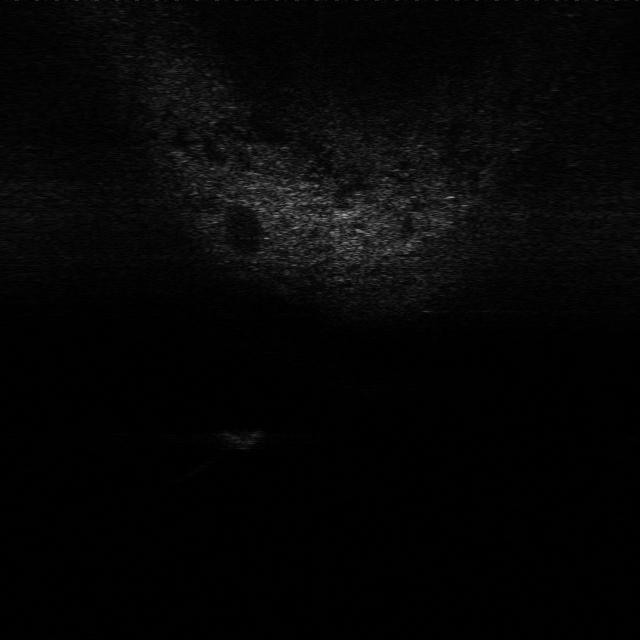cube: (222, 420, 268, 453)
